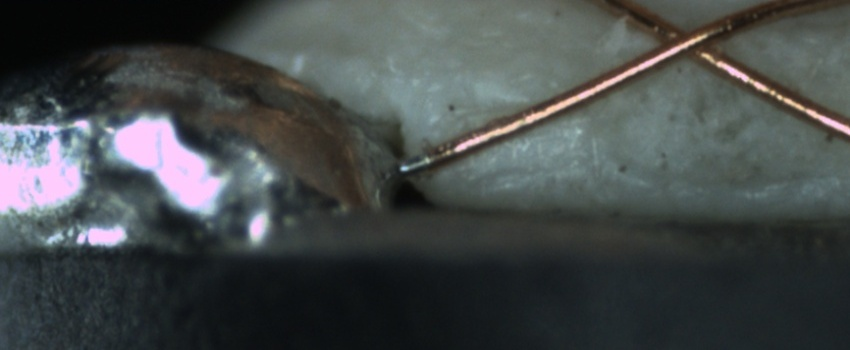CL: (624, 7, 735, 76)
TS: (396, 150, 433, 177)
